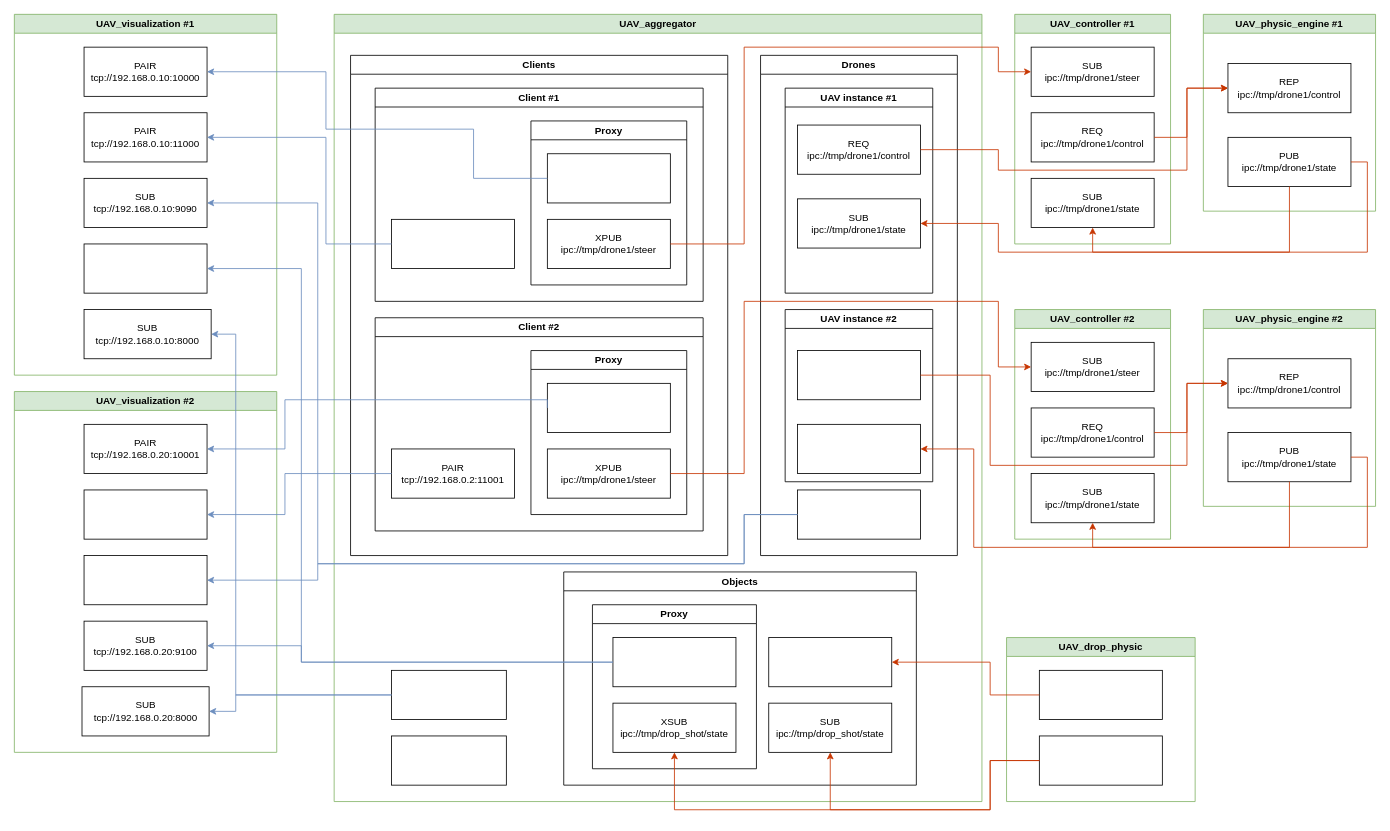
Some shapes in this 1390 by 831 pixel diagram are drawn without their labels. The shapes that lost their labels are listed below. From the top down, each one's centre as x and y in pixels, then its label:
(608,178): PAIR tcp://192.168.0.2:10000
(453,244): PAIR tcp://192.168.0.2:11000
(145,268): SUB tcp://192.168.0.10:9100
(858,375): REQ ipc://tmp/drone2/control
(608,408): PAIR tcp://192.168.0.2:10001
(858,449): SUB ipc://tmp/drone2/state
(145,514): PAIR tcp://192.168.0.20:11001
(858,514): PUB tcp://192.168.0.2:9090
(145,580): SUB tcp://192.168.0.20:9090
(674,662): XPUB tcp://192.168.0.2:9100
(830,662): REQ ipc://tmp/drop_shot/control
(448,695): PUB tcp://192.168.0.2:8000
(1100,695): REP ipc://tmp/drop_shot/control
(448,760): PUB inproc://stop
(1100,760): PUB ipc://tmp/drop_shot/state
